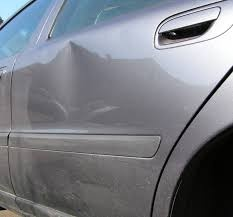Dent: (30, 36, 117, 129)
